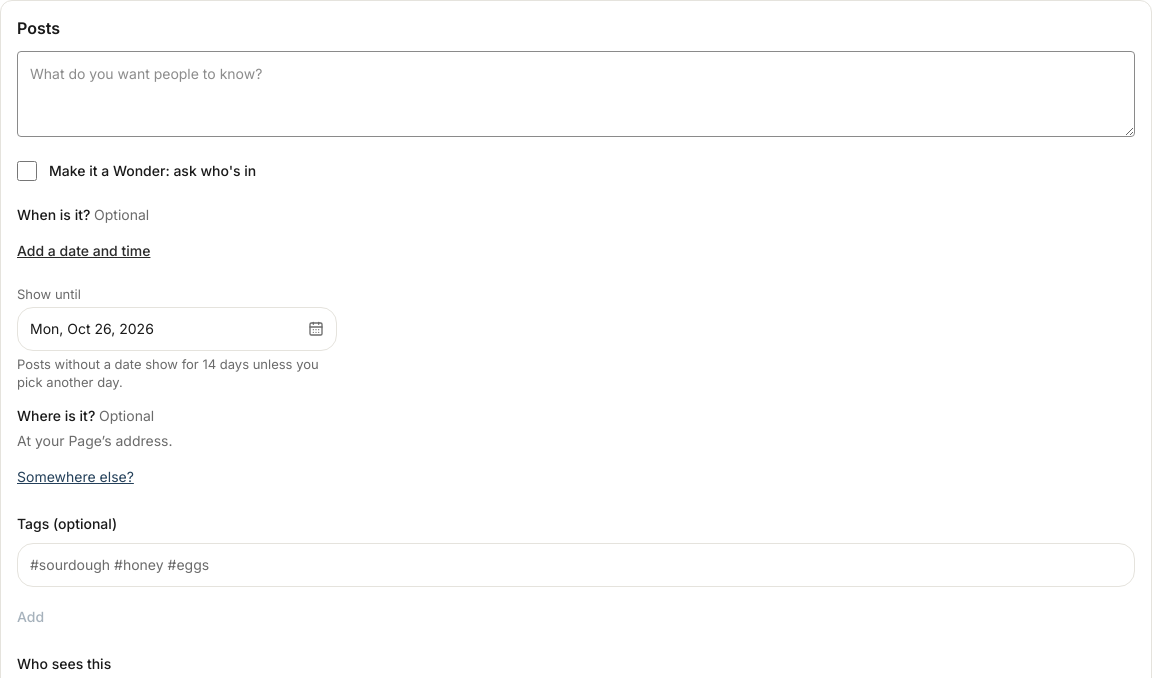
Test case: a weekly series › refuses a series with no day picked, and sends nothing
Type "Run club" into the text box with test id "page-post-body".
click(576, 94); type("Run club")  # box [17,51,1135,137]
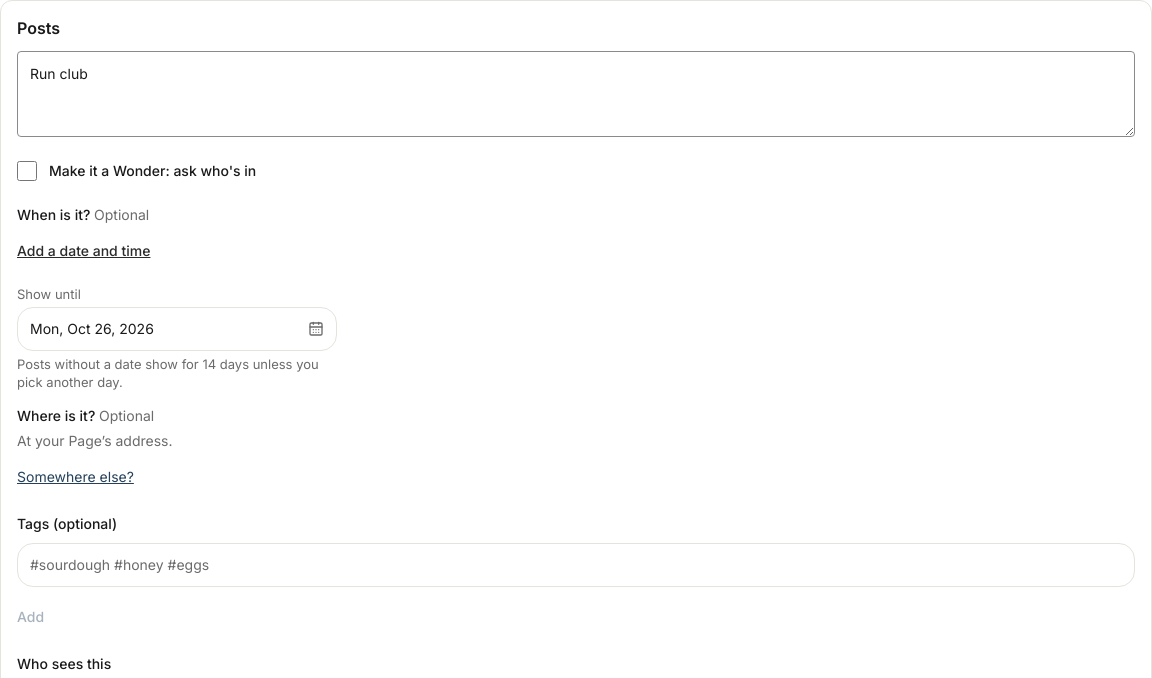
Click the button with test id "announce-add-when".
click(84, 251)  # box [17,229,150,273]
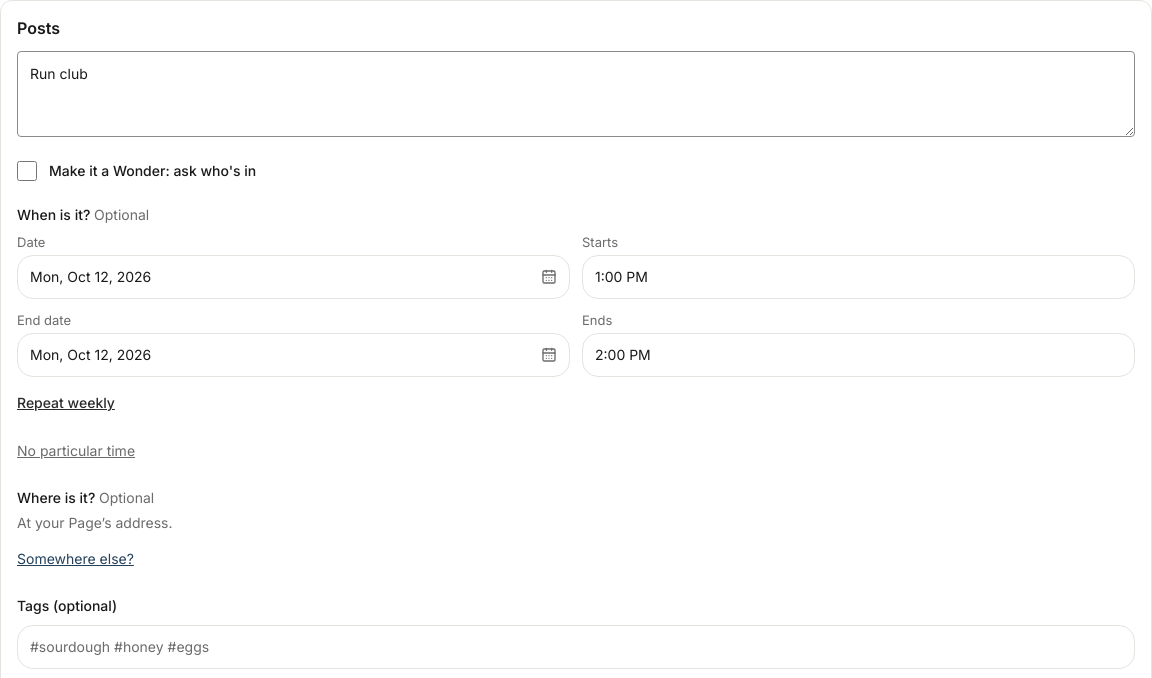
Replace the text in the dropdown with test id "announce-time" with "19:00" at (858, 277), box [582,255,1135,299]
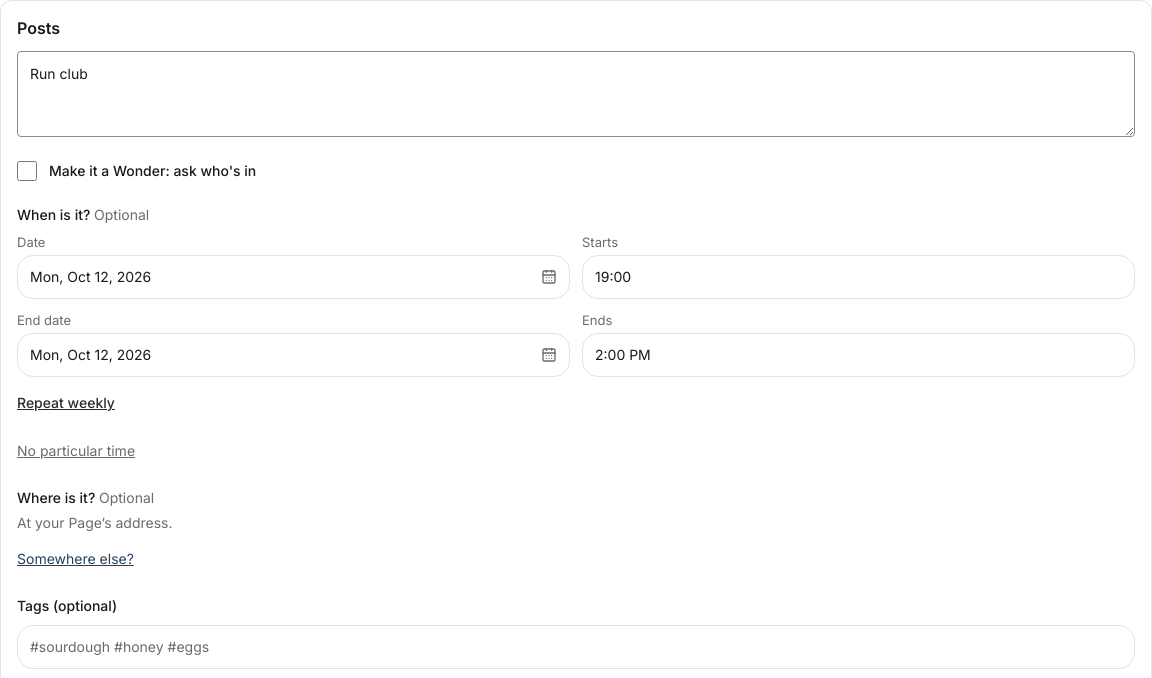
Click the button "Repeat weekly".
click(66, 403)  # box [17,381,115,425]
(page scrolled)
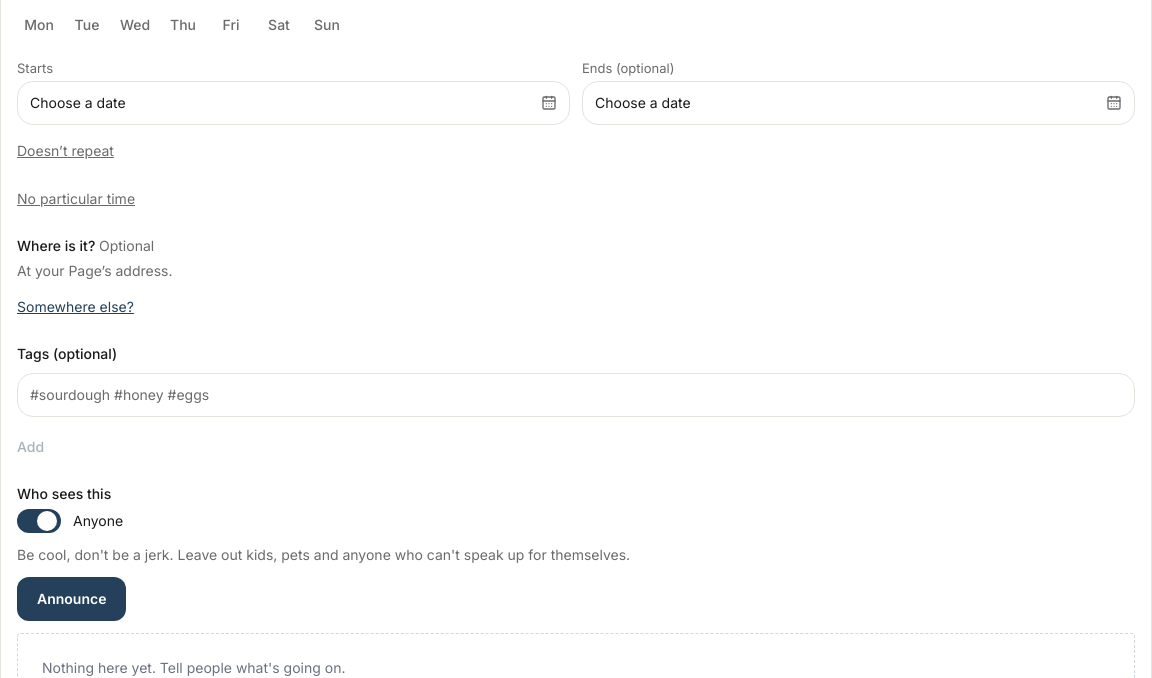
Click the button with test id "page-post-send".
click(72, 599)  # box [17,577,126,621]
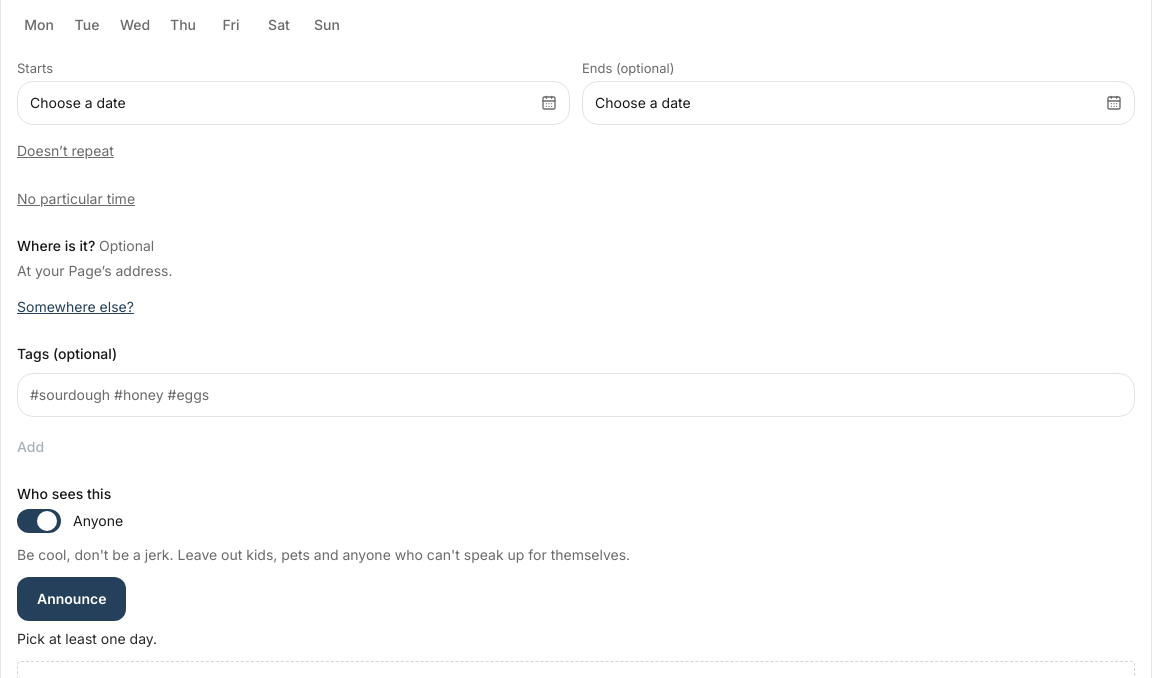
Check: the text "Pick at least one day." is shown, box [17,630,157,647]
